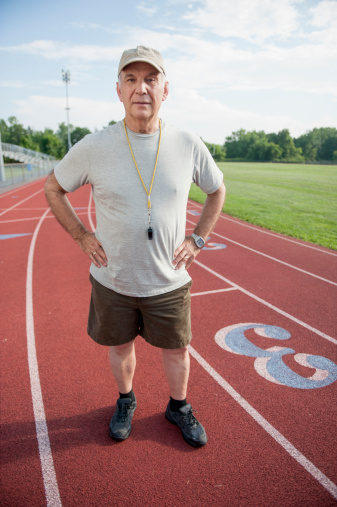em pe: (36, 39, 236, 470)
